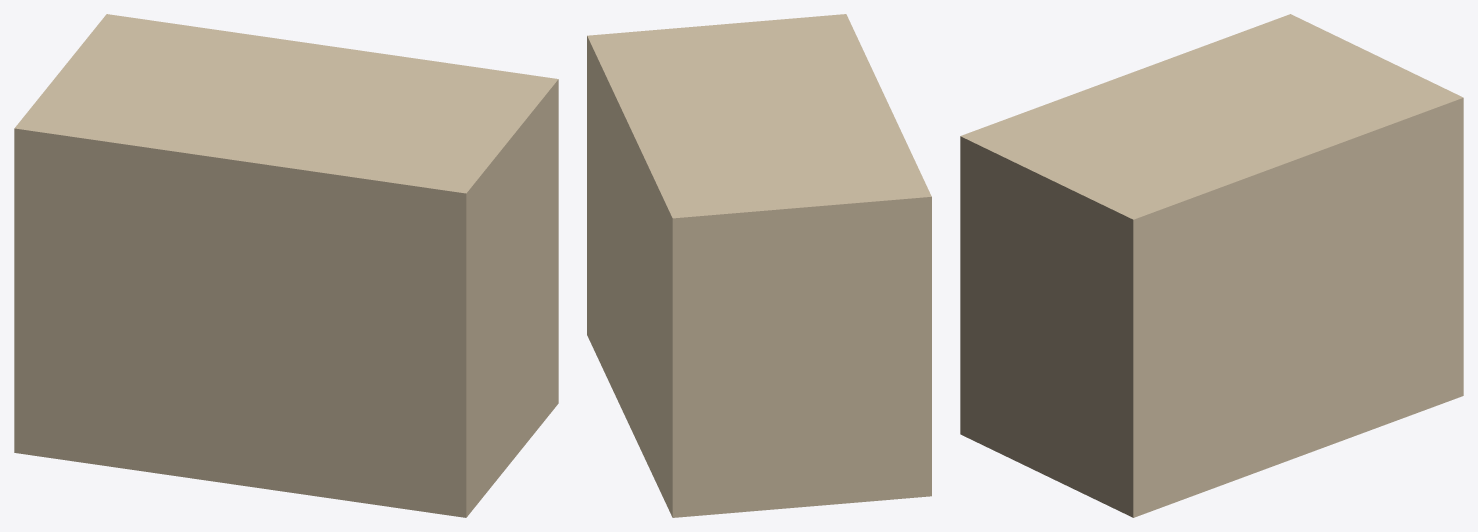
Rendered from city_3_-6.glb.
3 renders of one model, left to right at view 1: azimuth 30°, elevation 25°; view 2: azimuth 150°, elevation 25°; view 3: azimuth 270°, elevation 25°, orthographic. The views are drawn at different scales.
Visible parts, largest first — view 1: city_3_-6; view 2: city_3_-6; view 3: city_3_-6.
Boxes of the visible parts, left/top/right/bottom form: city_3_-6: left=14, top=14, right=558, bottom=517; city_3_-6: left=587, top=14, right=931, bottom=517; city_3_-6: left=960, top=14, right=1463, bottom=517.
Size of the model in its own units: 60.38 by 40.8 by 62.44.
